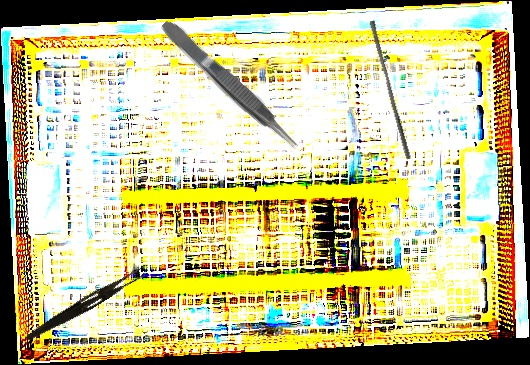Dressing Forceps: (24, 263, 146, 347)
Pusher: (364, 20, 417, 160)
Tissue Forceps: (157, 13, 305, 157)
